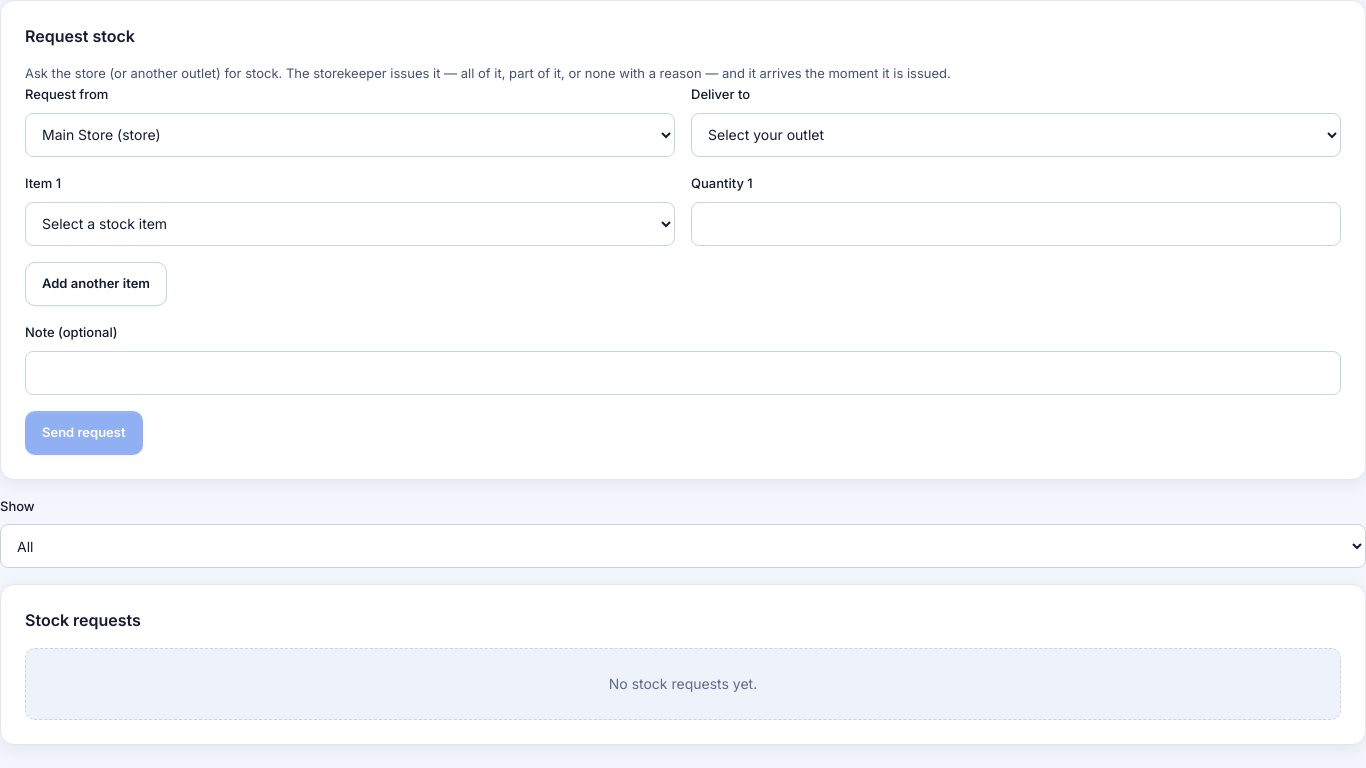
<StockRequestsTab> › raising a request › shows the server’s reason when a request is refused
Select "Main Bar" in the dropdown labelled "Deliver to": (1016, 135) [691,113,1341,157]
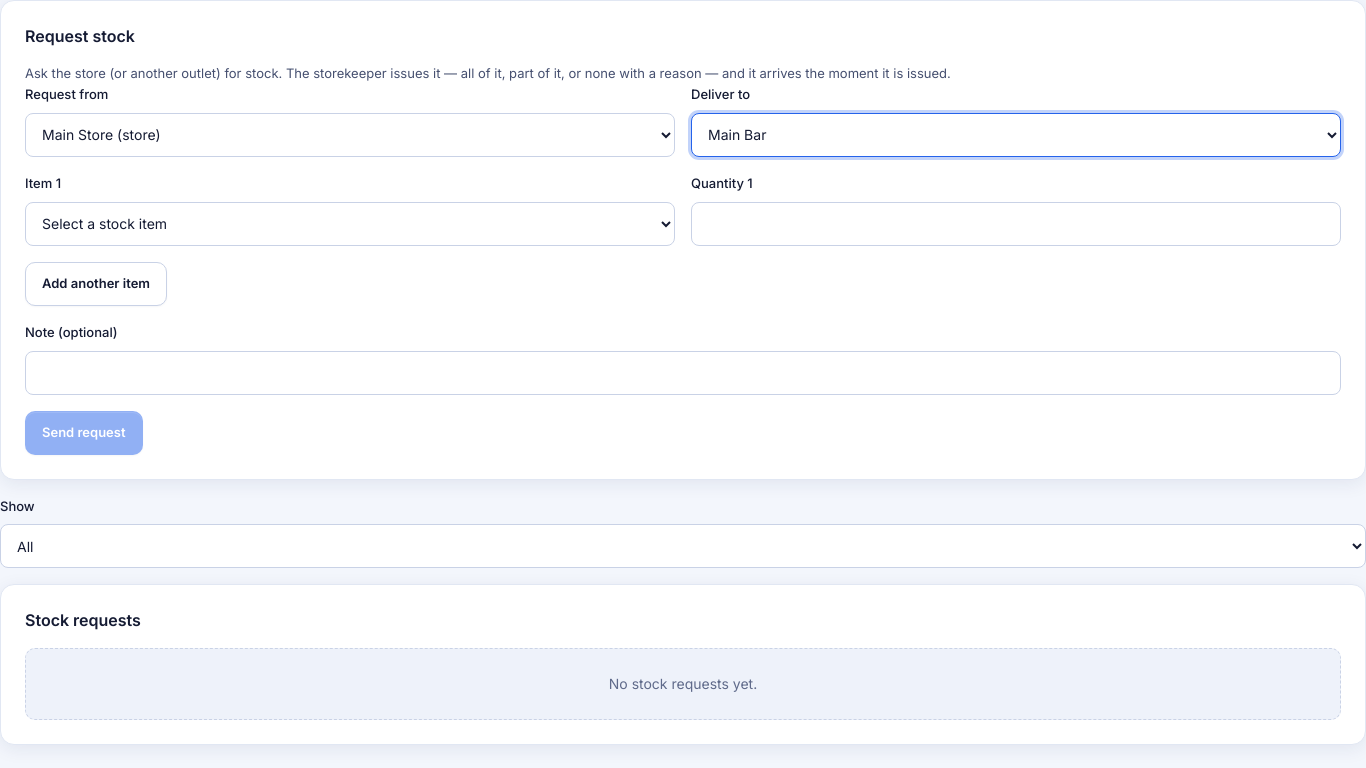
Select "Coke (bottle)" in the dropdown labelled "Item 1": (350, 224) [25,202,675,246]
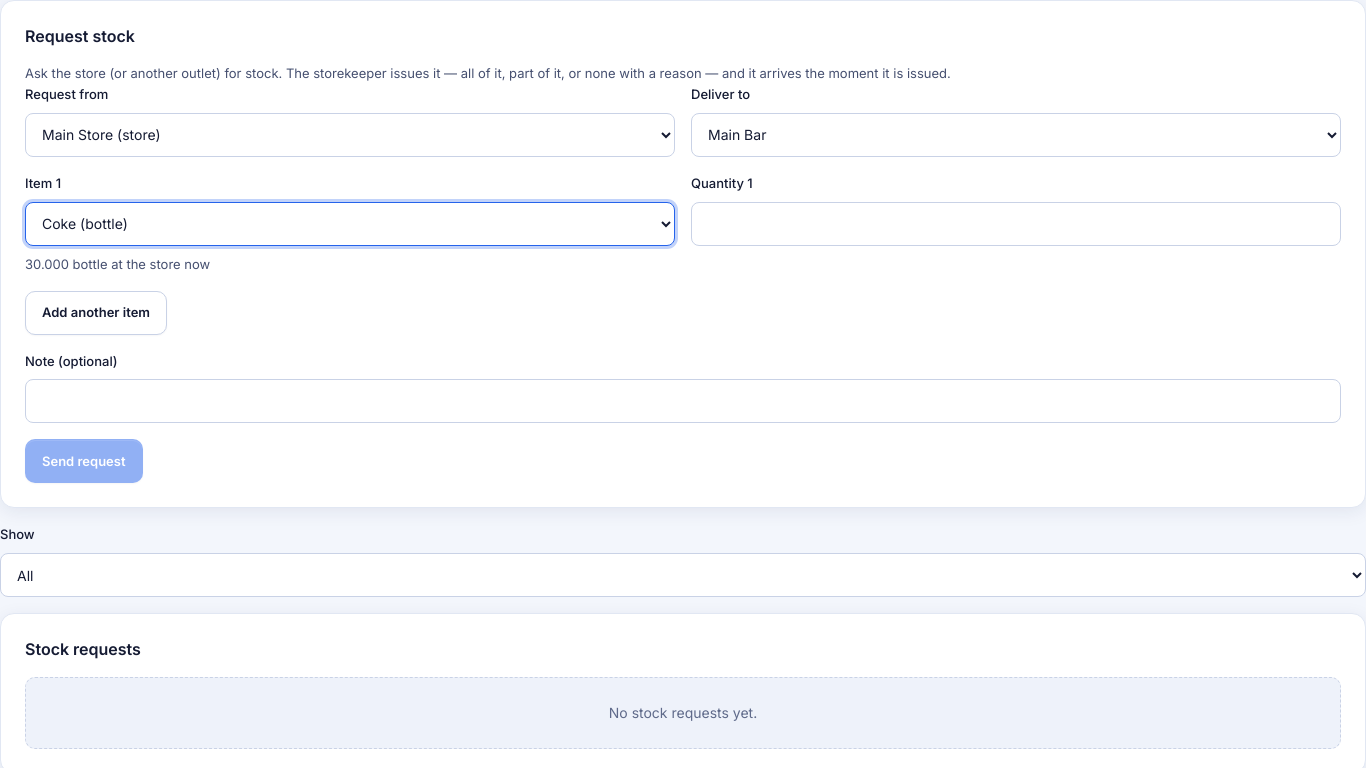
In the field labelled "Quantity 1": (1016, 224) [691,202,1341,246], type "1"
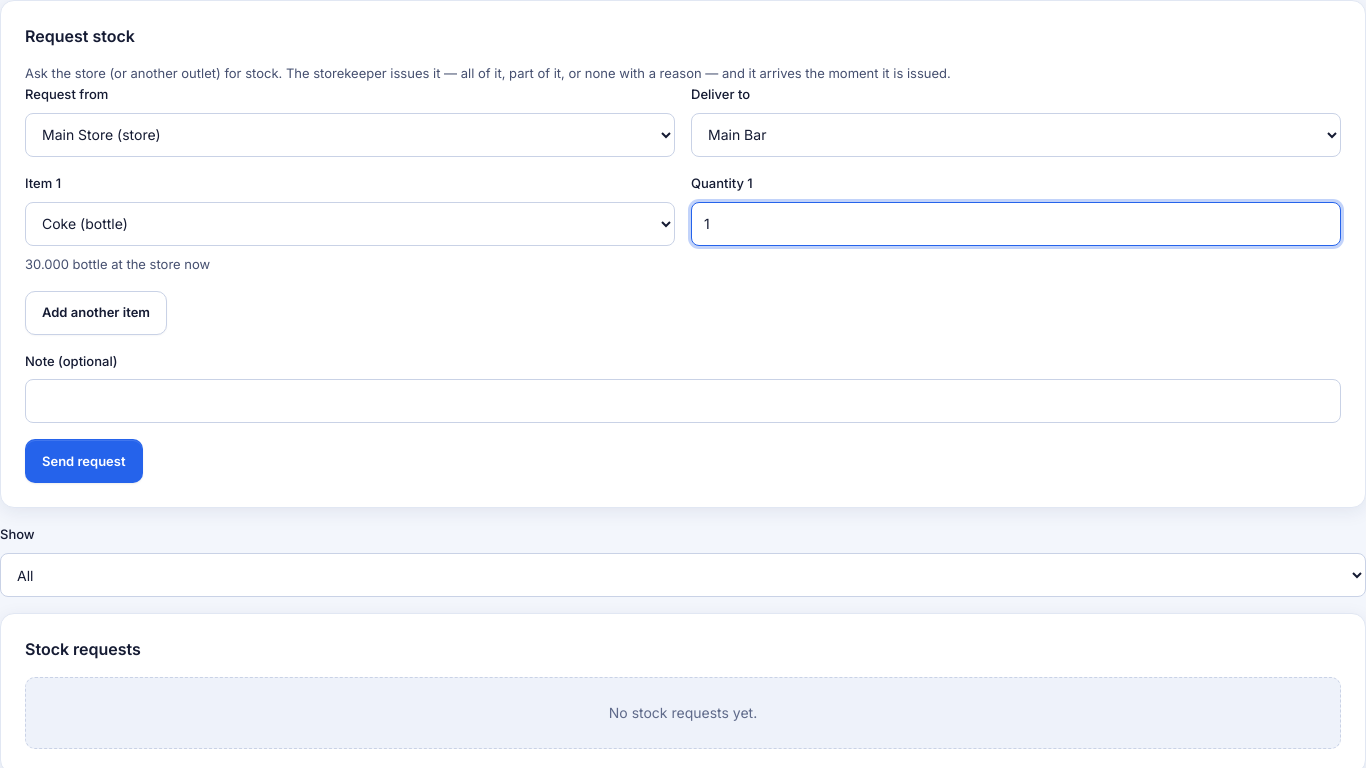
Click the button "Send request": (84, 461) [25,439,142,483]
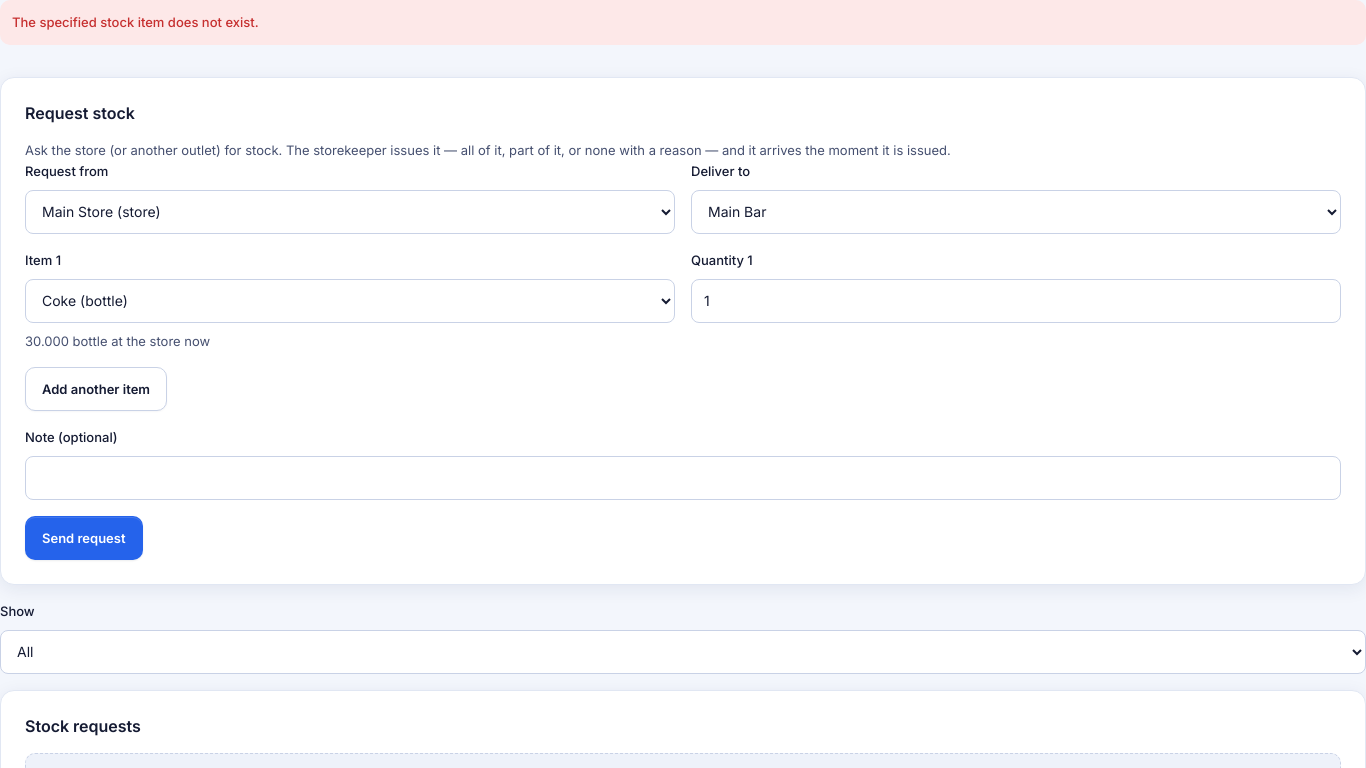
Check: the message reads "The specified stock item does not exist.", box [12,14,259,30]
